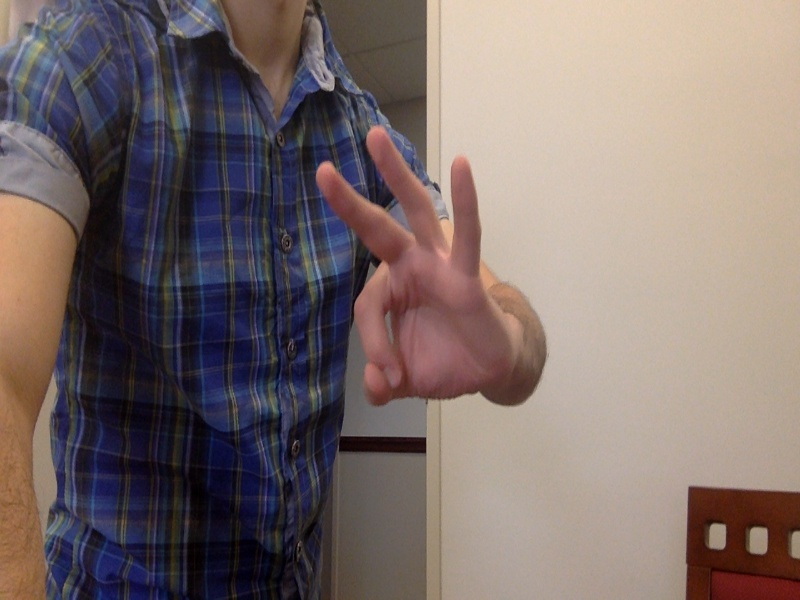3-hand: (314, 127, 507, 414)
